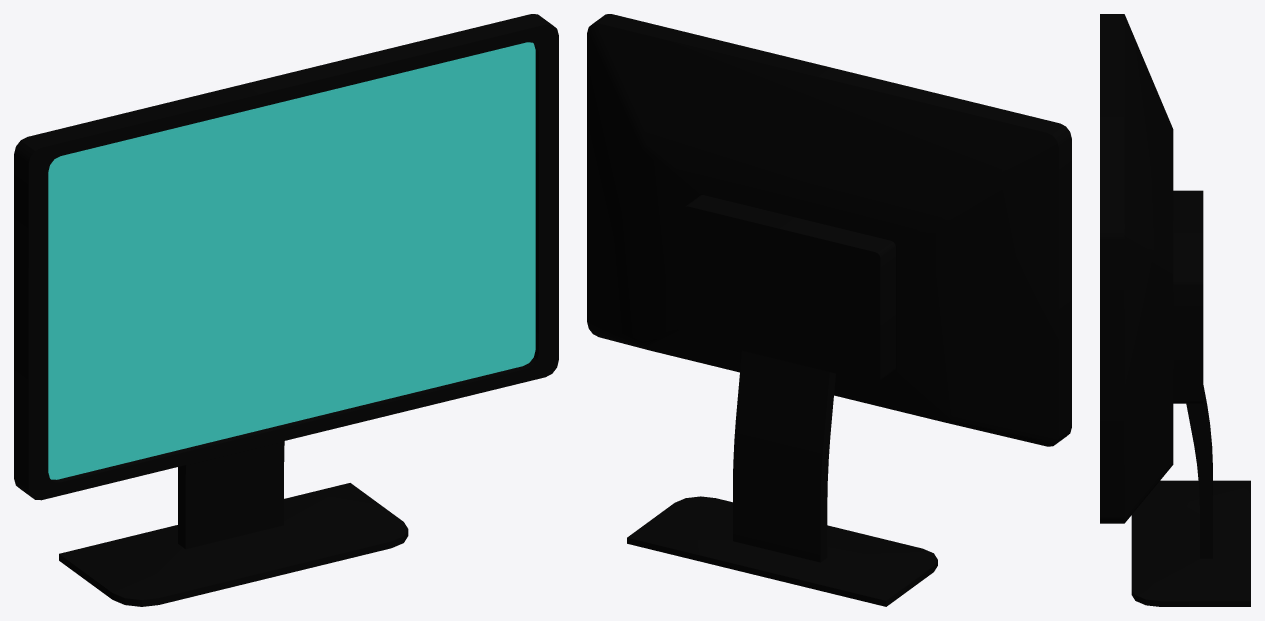
Rendered from Computer.fbx.
3 renders of one model, left to right at view 1: azimuth 30°, elevation 25°; view 2: azimuth 150°, elevation 25°; view 3: azimuth 270°, elevation 25°, orthographic. The views are drawn at different scales.
Visible parts, largest first — view 1: Computer Glow, Computer; view 2: Computer; view 3: Computer.
Boxes of the visible parts, left/top/right/bottom form: Computer Glow: left=48, top=42, right=535, bottom=479; Computer: left=14, top=14, right=558, bottom=606; Computer: left=587, top=14, right=1071, bottom=606; Computer: left=1100, top=14, right=1250, bottom=606.
Bounding box in the file's own units: 200 × 182 × 58.18.
